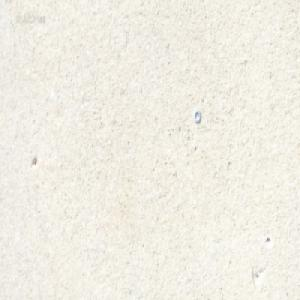Washer: (193, 108, 200, 123)
